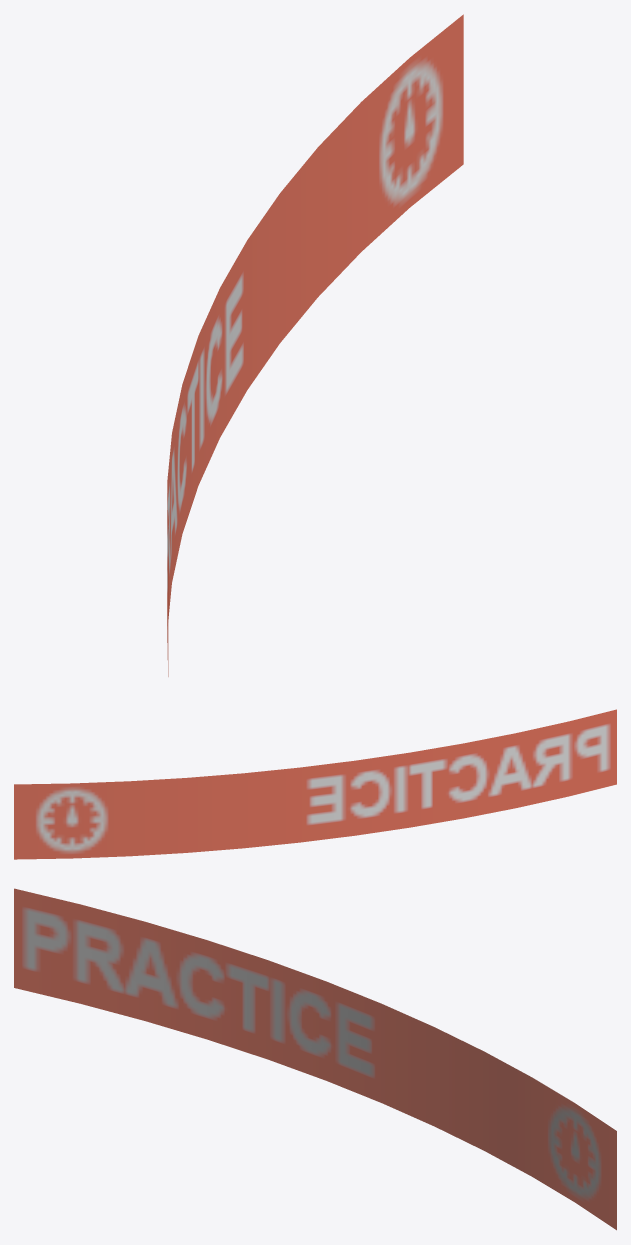
File: practice_selected.glb
3 renders of one model, top to bottom at view 1: azimuth 30°, elevation 25°; view 2: azimuth 150°, elevation 25°; view 3: azimuth 270°, elevation 25°, orthographic. The views are drawn at different scales.
Visible parts, largest first — view 1: practice_selected; view 2: practice_selected; view 3: practice_selected.
Part boxes in pixels (left/top/right/bottom): practice_selected: left=167, top=14, right=463, bottom=676; practice_selected: left=14, top=709, right=616, bottom=859; practice_selected: left=14, top=888, right=616, bottom=1230.
Size of the model in its own units: 2.66 by 0.509 by 2.8.
1 material, 1 textured.
